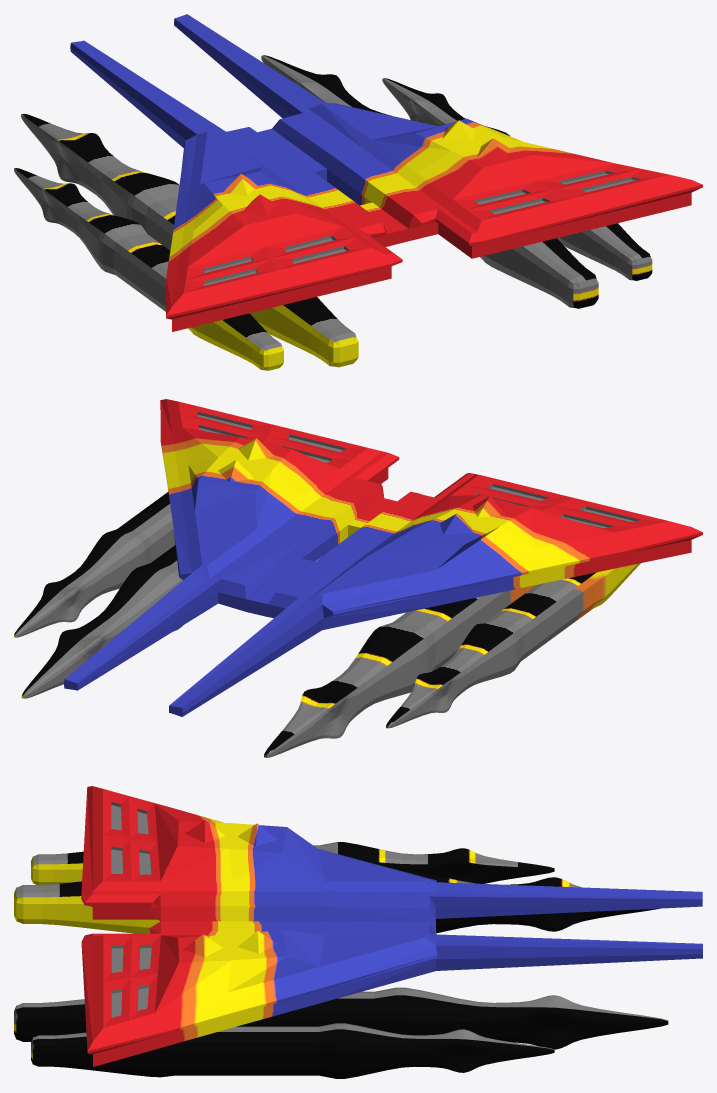
Rendered from ship_64.FBX.
3 renders of one model, top to bottom at view 1: azimuth 30°, elevation 25°; view 2: azimuth 150°, elevation 25°; view 3: azimuth 270°, elevation 25°, orthographic.
Visible parts, largest first — view 1: Hull64; view 2: Hull64; view 3: Hull64.
Boxes of the visible parts, box(x1,y1,x2,y2) form: Hull64: box(14, 14, 702, 370); Hull64: box(14, 399, 702, 757); Hull64: box(14, 786, 702, 1078).
Bounding box in the file's own units: 56.14 × 11.44 × 61.89.
Materials: 2 (2 with a texture image).
